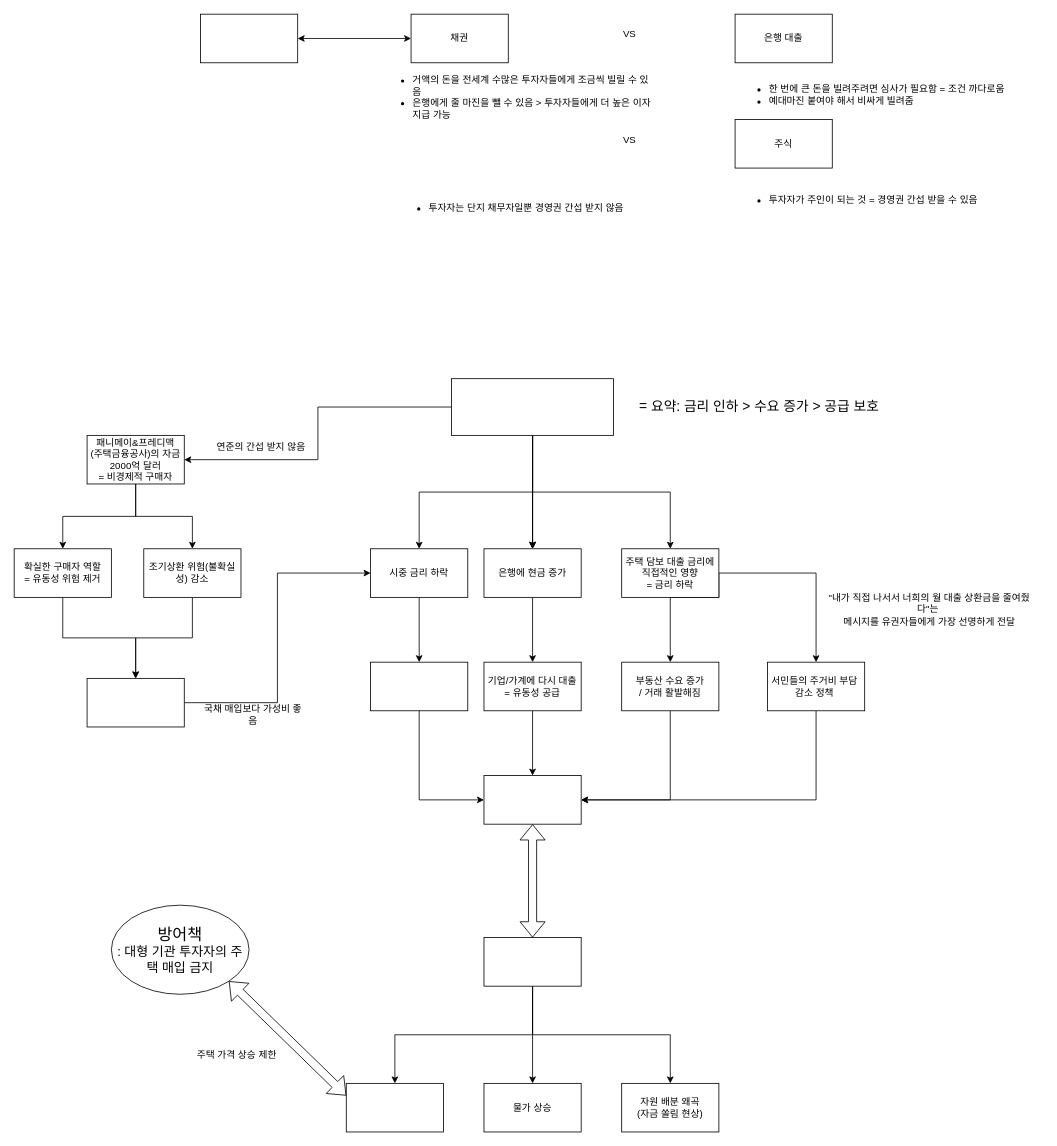
This 1057x1146 diagram has some shape labels left out. The shapes that lost their labels are listed below. From the top down, each one's box as (x1, y1, x2, y2) in pixels, then its label:
(200, 13, 298, 63): 금리
(451, 378, 614, 435): 트럼프 행정부의 모기지 채권 매입
(86, 678, 184, 727): 스프레드(마진) 하락
(370, 661, 468, 711): 이자 부담 줄어듦 = 소비 증가
(483, 775, 581, 824): 경기 부양
(483, 937, 581, 986): 역효과
(345, 1083, 443, 1132): 부동산 수요 증가 =집값 상승
